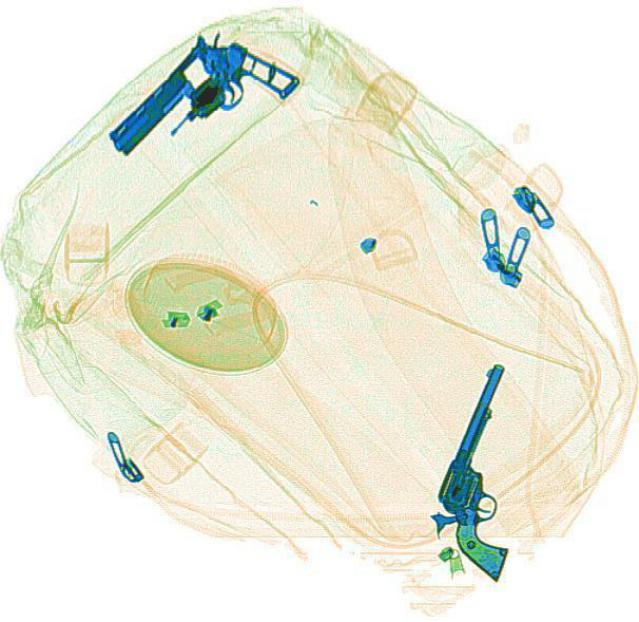Gun: (94, 11, 302, 196), (410, 359, 575, 578)
